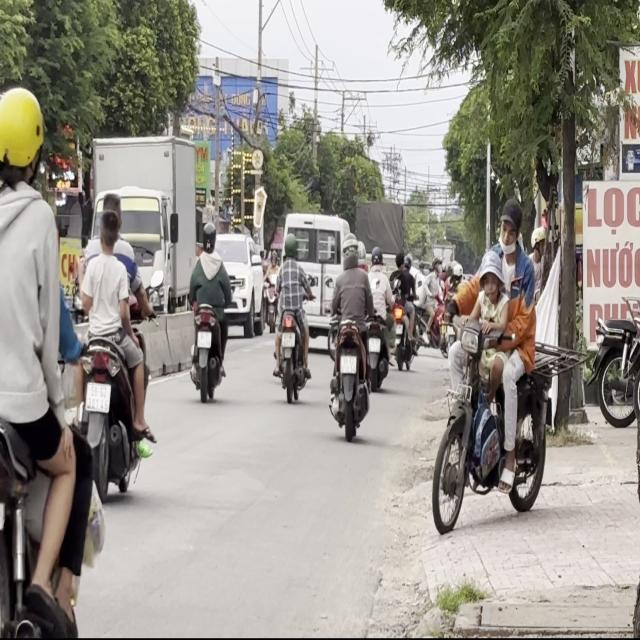helmet: (0, 85, 46, 191), (341, 236, 357, 266)
licenseplate: (0, 81, 111, 638), (430, 197, 590, 537), (76, 190, 155, 500), (326, 233, 372, 438)
motorcyclist: (474, 249, 505, 306), (98, 209, 120, 267), (499, 199, 523, 251), (104, 192, 122, 226)
nohelmet: (85, 381, 110, 411), (340, 354, 356, 372)
